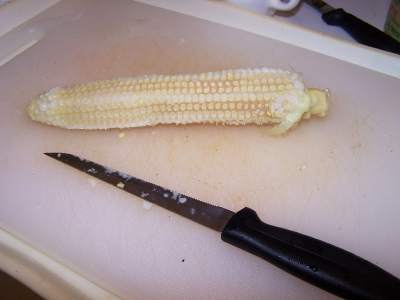corn: (25, 65, 333, 142)
